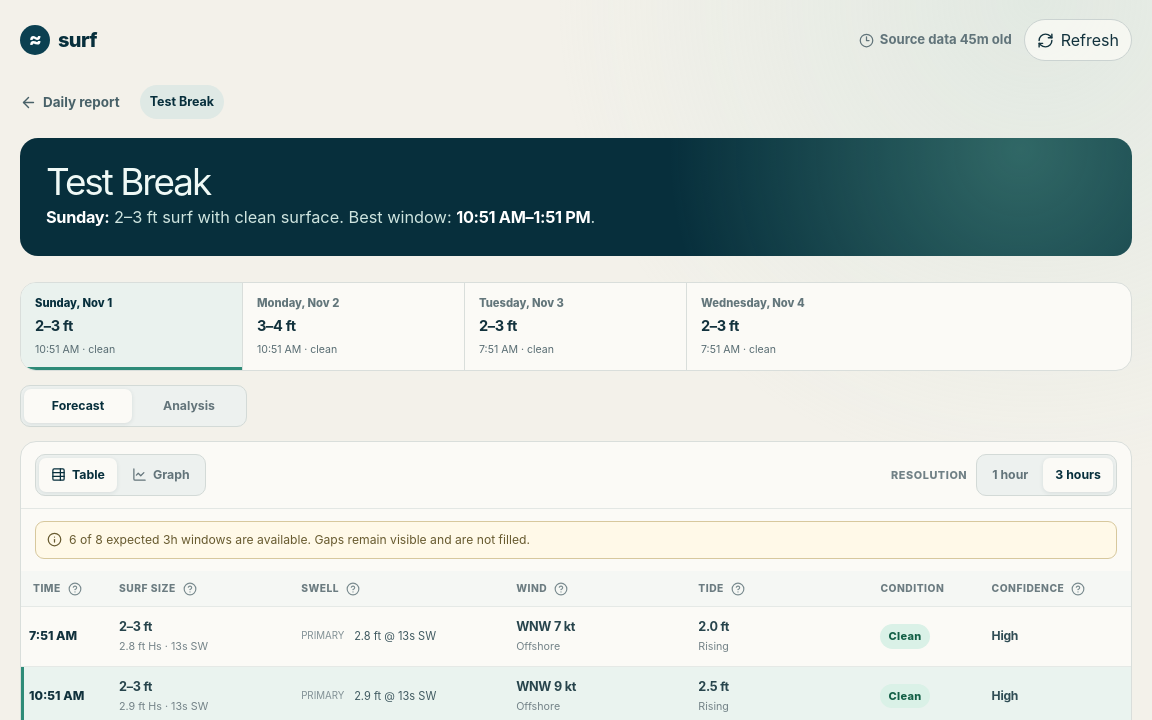
Test: App › keeps the last good forecast visible when a background refresh fails
Check: the element with class "spotCall" shows "surf with", box [158,207,234,227]
Click the button "Refresh". click: (1078, 40)
box: [1024,19,1132,61]
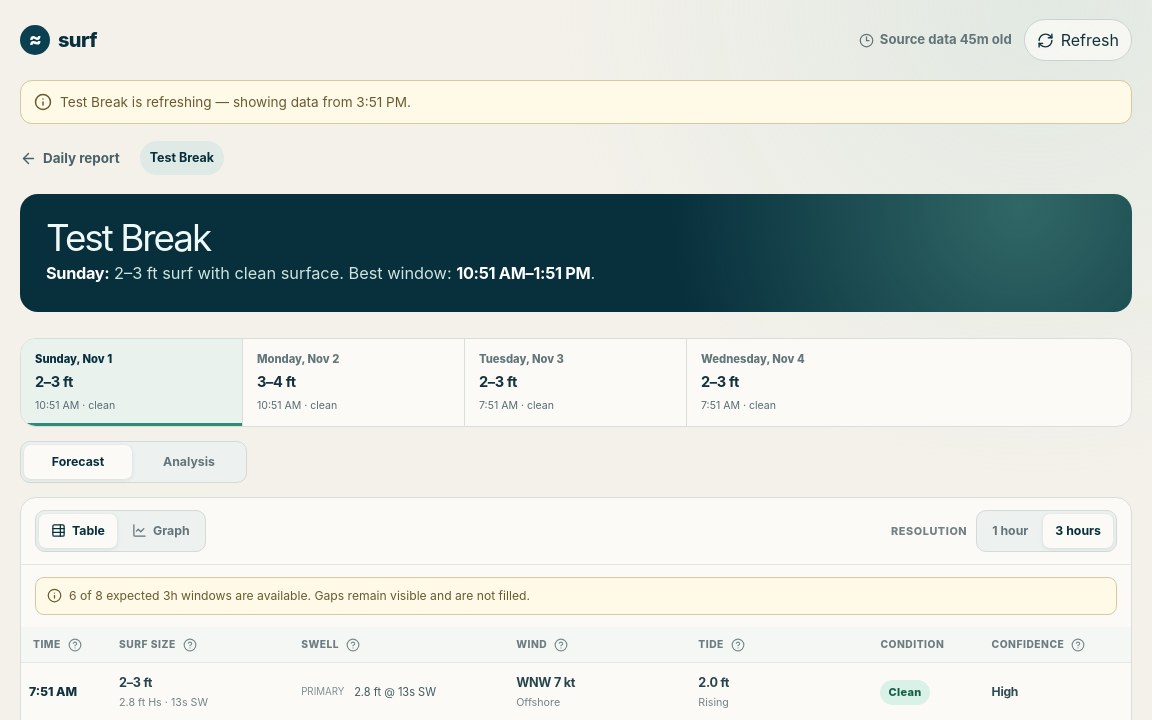
Check: the element with class "spotCall" shows "surf with", box [158,263,234,283]
Check: the text "Test Break is refreshing — showing data from 3:51 PM." is shown, box [20,80,1132,124]
